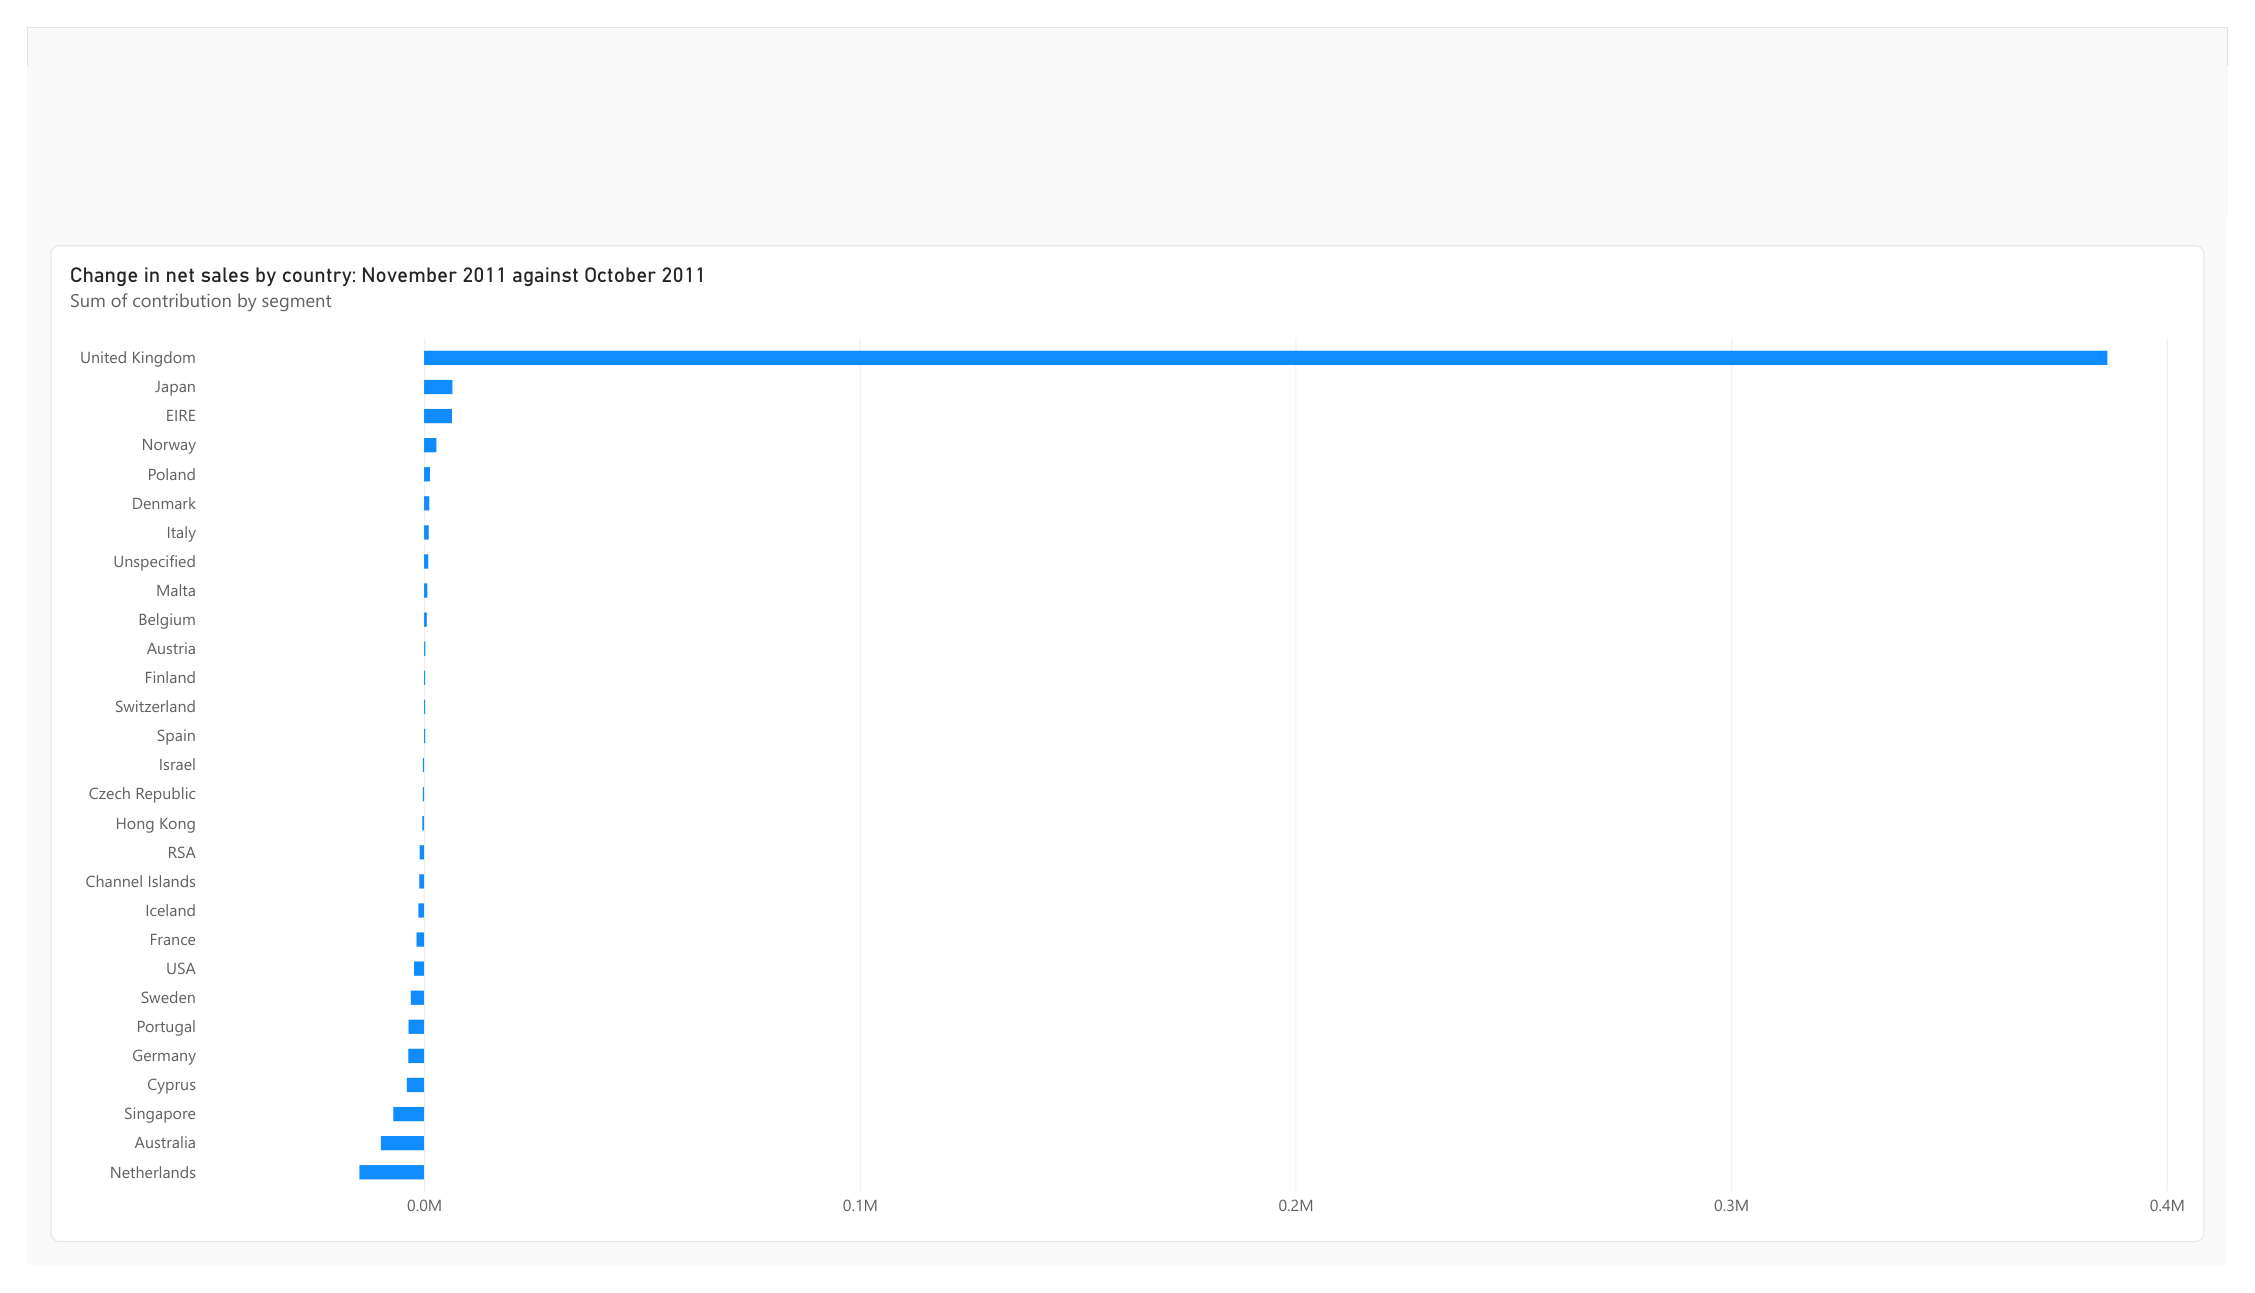

Layout of this report page (visuals, bound fields, positions):
{"tool":"powerbi","page":{"name":"Drivers","canvas":[1920,1080],"ordinal":1},"visuals":[{"type":"clusteredBarChart","title":"Change in net sales by country: November 2011 against October 2011","fields":{"Category":["rootsignal rpt_country_contribution.segment"],"Y":["Sum(rootsignal rpt_country_contribution.contribution)"]},"box":[20,190,1880,870],"z":0}]}

Visuals, with their boxes in screenshot pixels (x1, y1, x2, y2), scaled from the page's 1920x1080 canvas onto the 2255x1293 screenshot:
"Change in net sales by country: November 2011 against October 2011" clusteredBarChart: rect(23, 227, 2232, 1269)
